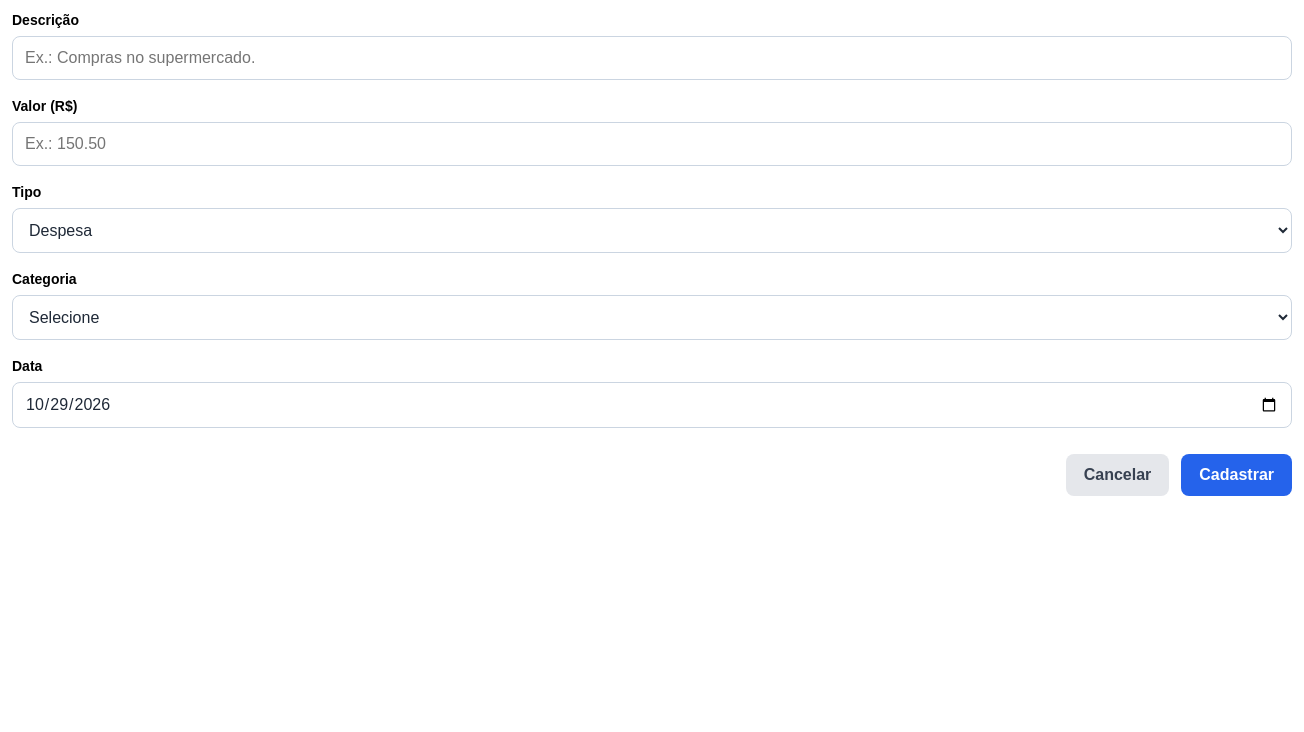
TransactionForm › não permite cadastrar um valor negativo
In the field labelled "Descrição": (652, 58) [12, 36, 1292, 80], type "Supermercado"
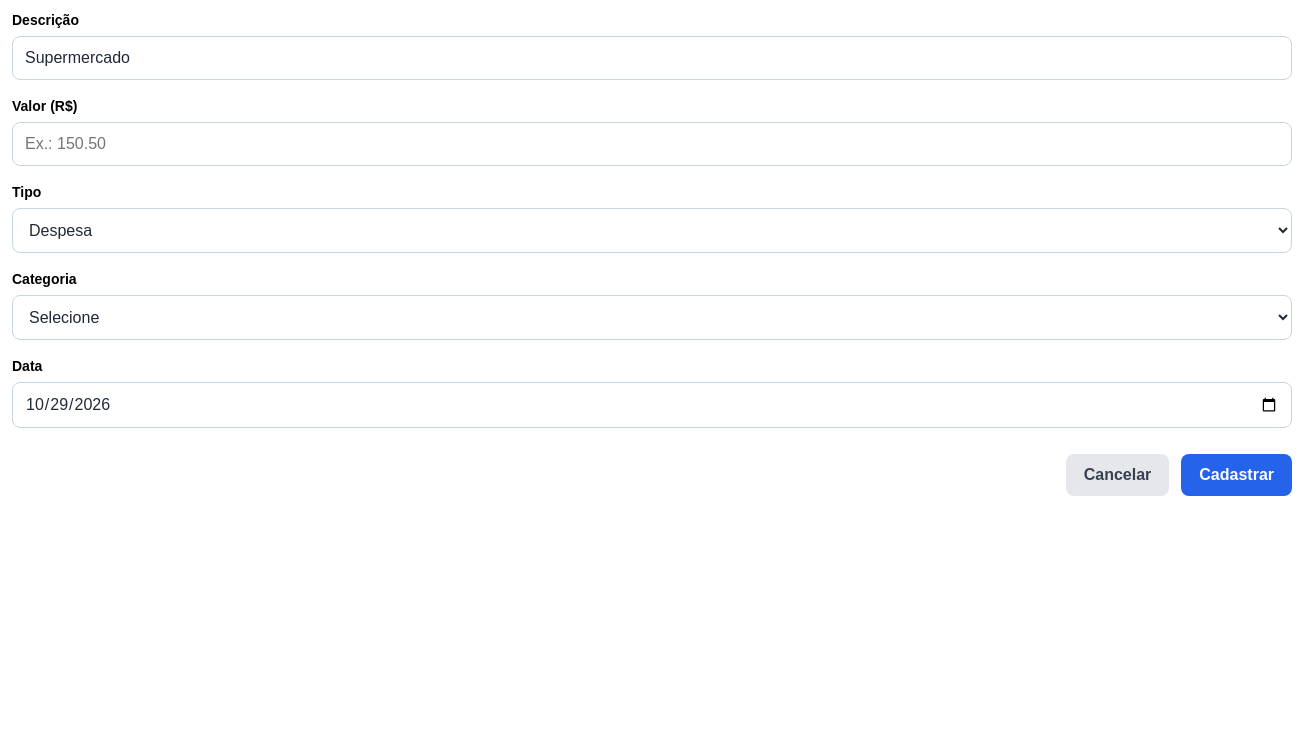
In the field labelled "Valor (R$)": (652, 144) [12, 122, 1292, 166], type "-50.00"
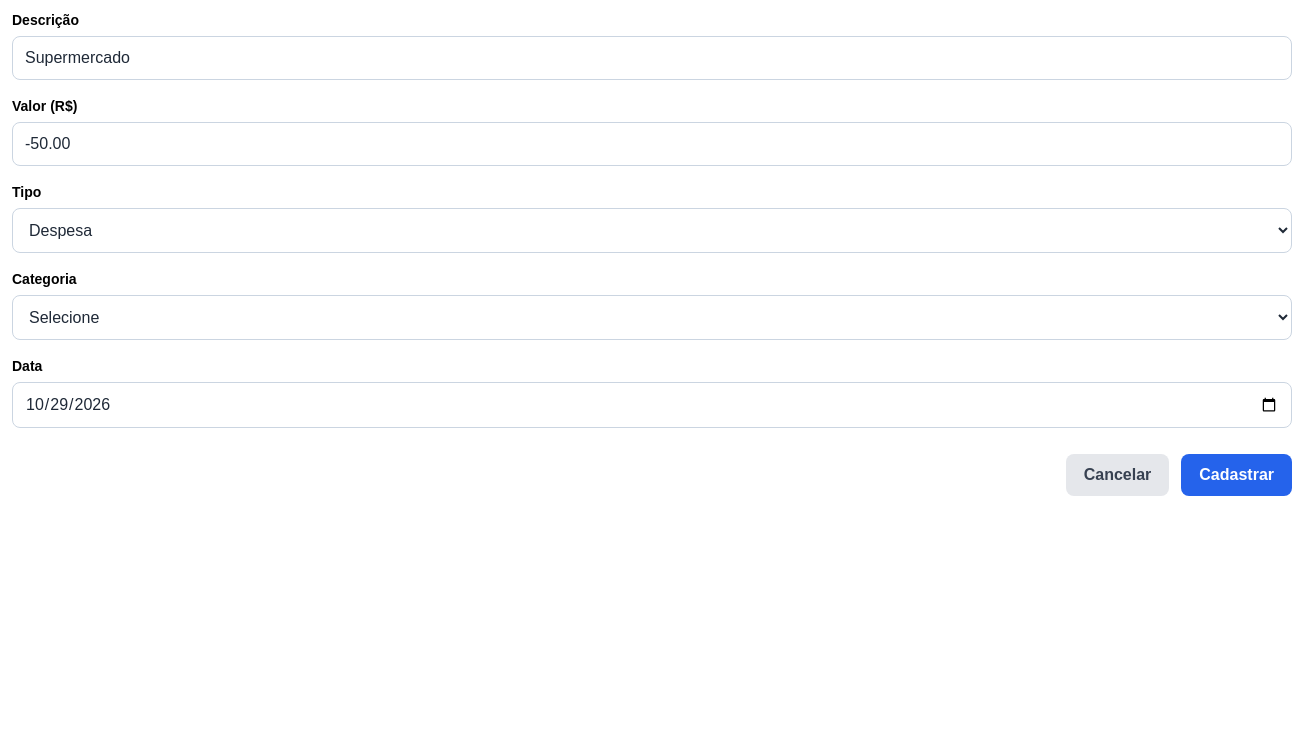
Click the button "Cadastrar": (1237, 475) [1181, 454, 1292, 496]
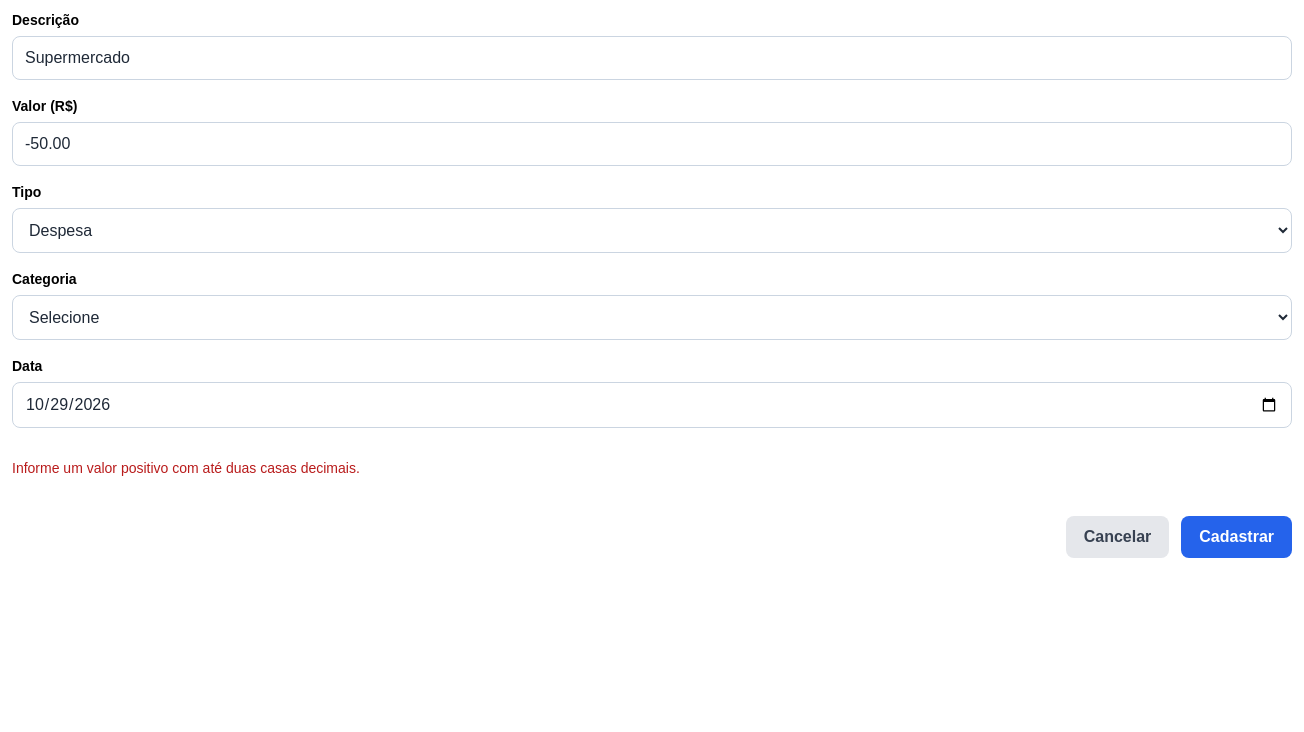
Expected: the message shows "Informe um valor positivo", [12, 460, 360, 476]
